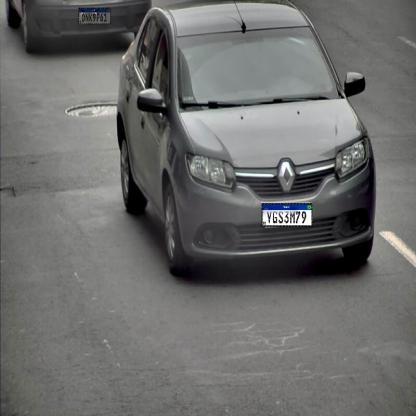PlacaM: (262, 203, 312, 227), (78, 8, 110, 24)
